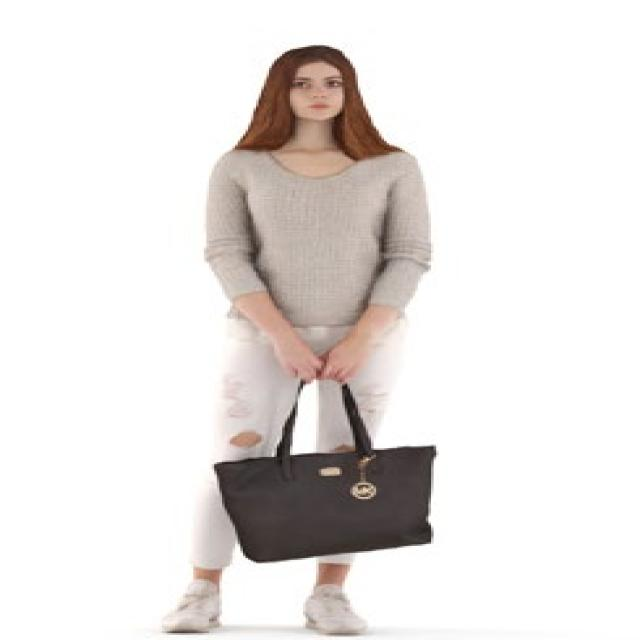standing: (153, 42, 446, 638)
